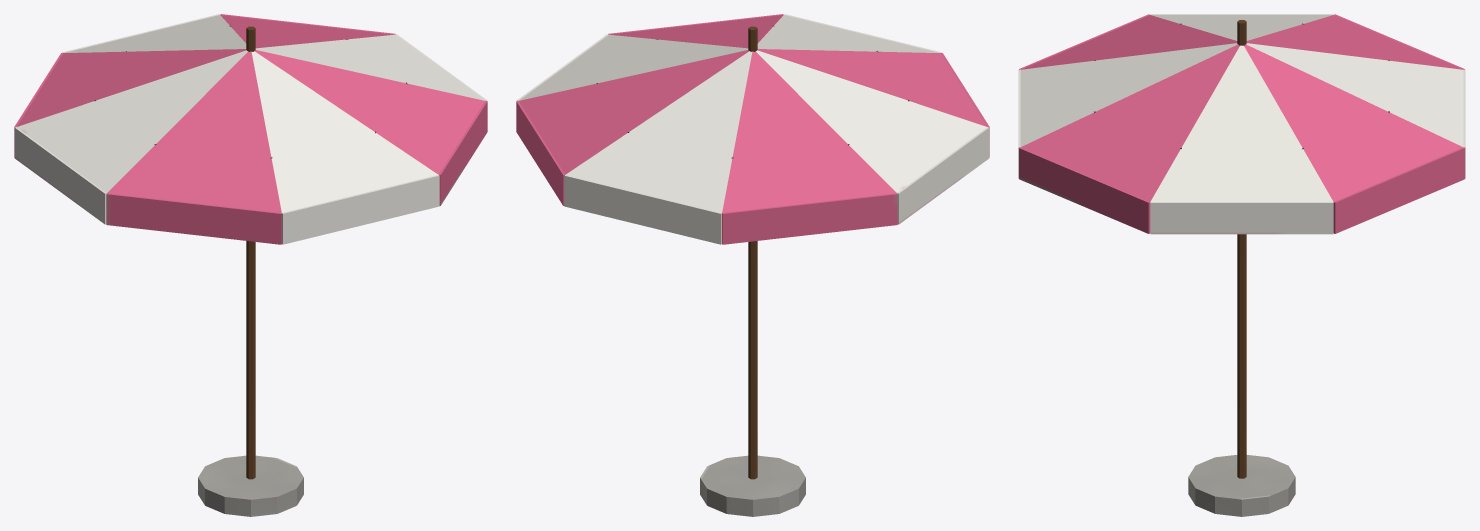
File: slunecnik_1a095515.glb
The picture shows the model from 3 angles, left to right: view 1: azimuth 30°, elevation 25°; view 2: azimuth 150°, elevation 25°; view 3: azimuth 270°, elevation 25°; orthographic projection.
Visible parts, largest first — view 1: dum; view 2: dum; view 3: dum.
Boxes of the visible parts, x1,y1,x2,y2 form: dum: [14, 14, 487, 516]; dum: [516, 14, 989, 516]; dum: [1018, 14, 1465, 516].
Bounding box in the file's own units: 2.33 × 2.71 × 2.33.
1 material, 1 textured.
